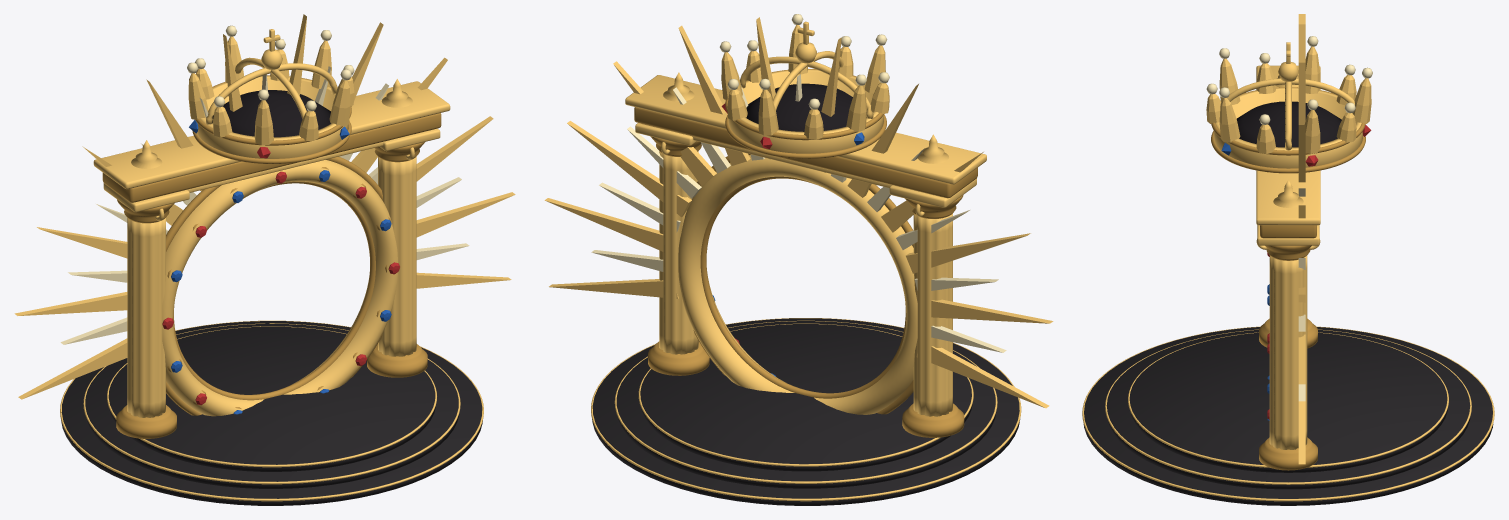
The model's file is PortalMidas.glb.
3 views of the same model, side by side, from view 1: azimuth 30°, elevation 25°; view 2: azimuth 150°, elevation 25°; view 3: azimuth 270°, elevation 25° (orthographic). The views are drawn at different scales.
Parts seen in each view (by area): view 1: Gold_1, MarbleDark_1, GoldDeep_1, GoldPale_1, Ink_1, Blue_1, Red_1; view 2: Gold_1, MarbleDark_1, GoldDeep_1, GoldPale_1, Ink_1; view 3: MarbleDark_1, Gold_1, GoldDeep_1, Ink_1, GoldPale_1.
Part boxes in pixels (x1=…): Gold_1: x1=14, y1=14, x2=515, y2=501; MarbleDark_1: x1=61, y1=321, x2=482, y2=505; GoldDeep_1: x1=102, y1=75, x2=441, y2=438; GoldPale_1: x1=60, y1=25, x2=469, y2=344; Ink_1: x1=212, y1=90, x2=330, y2=137; Blue_1: x1=171, y1=120, x2=391, y2=414; Red_1: x1=162, y1=147, x2=399, y2=405; Gold_1: x1=544, y1=17, x2=1053, y2=501; MarbleDark_1: x1=592, y1=318, x2=1020, y2=505; GoldDeep_1: x1=634, y1=69, x2=977, y2=437; GoldPale_1: x1=591, y1=14, x2=1006, y2=352; Ink_1: x1=746, y1=83, x2=866, y2=131; MarbleDark_1: x1=1083, y1=327, x2=1493, y2=505; Gold_1: x1=1082, y1=14, x2=1494, y2=501; GoldDeep_1: x1=1211, y1=87, x2=1365, y2=470; Ink_1: x1=1236, y1=101, x2=1341, y2=147; GoldPale_1: x1=1206, y1=36, x2=1372, y2=401.
Size of the model in its own units: 73.52 by 55.75 by 54.22.
